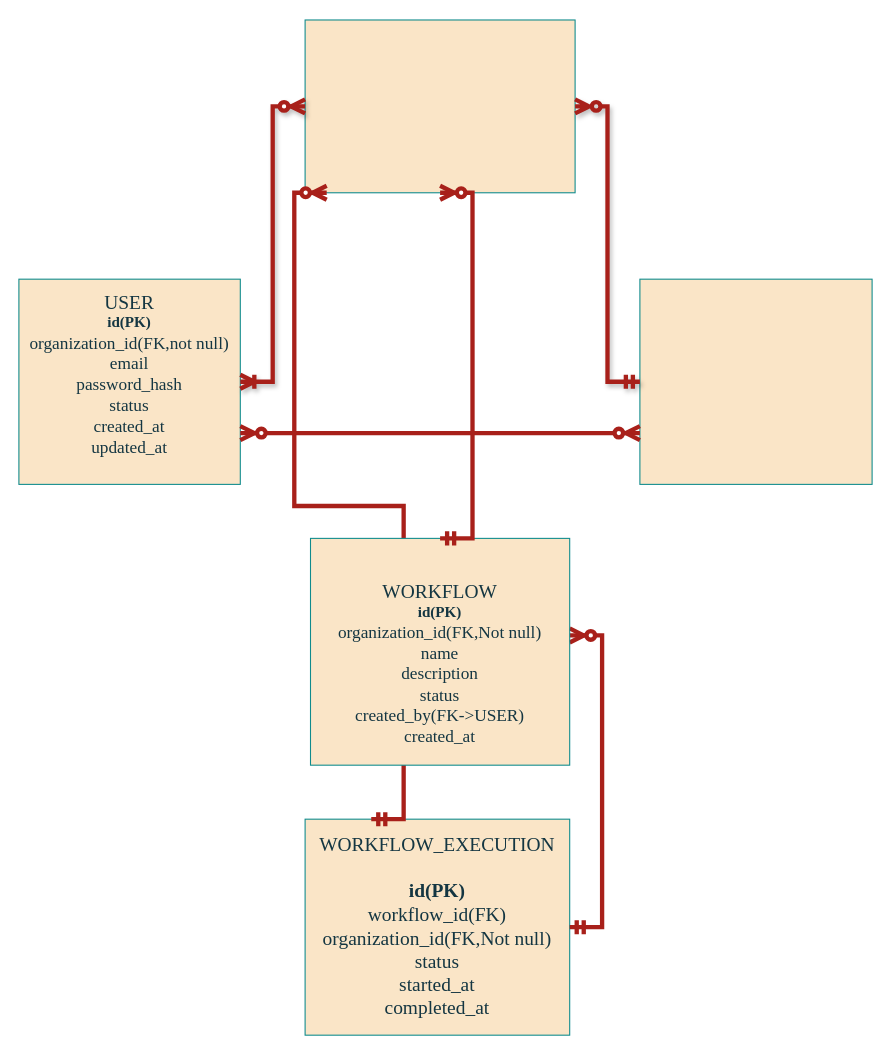
This 891x1054 diagram has some shape labels left out. The centre of each missing label's shape, as x and y in pixels:
"Organization id(PK) name slug(UNIQUE) status created_at updated_at" goes at pixel 439 106.
"Role id(PK) organization_id(FK,Not null) name description" goes at pixel 755 381.
